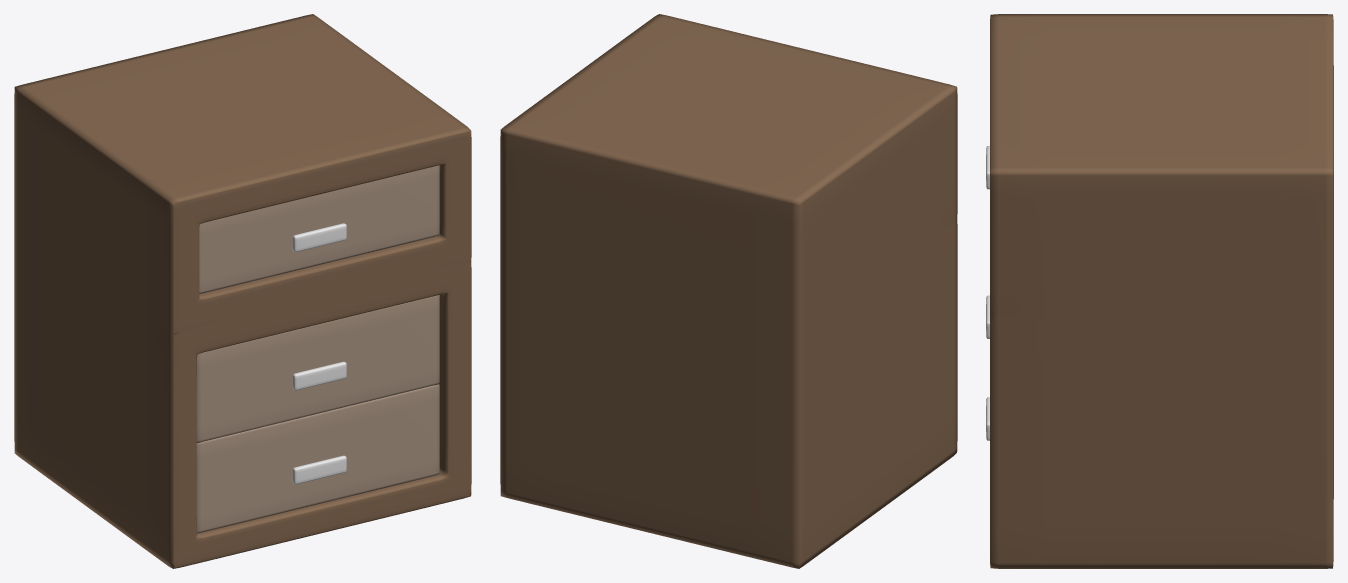
Rendered from little-desk.fbx.
3 views of the same model, side by side, from view 1: azimuth 30°, elevation 25°; view 2: azimuth 150°, elevation 25°; view 3: azimuth 270°, elevation 25° (orthographic). The views are drawn at different scales.
Visible parts, largest first — view 1: little-desk; view 2: little-desk; view 3: little-desk.
Boxes of the visible parts, x1,y1,x2,y2 form: little-desk: (14, 14, 471, 568); little-desk: (500, 14, 957, 568); little-desk: (986, 14, 1333, 568).
Size of the model in its own units: 337 by 396 by 313.
